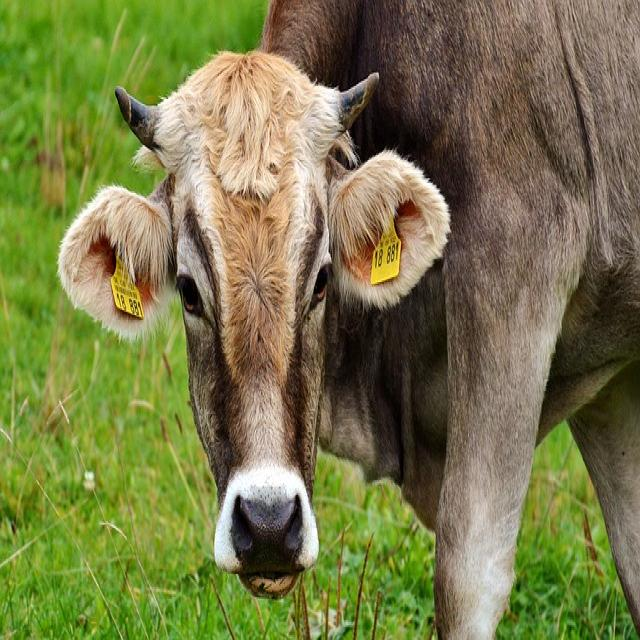Herbivorous: (56, 0, 640, 640)
